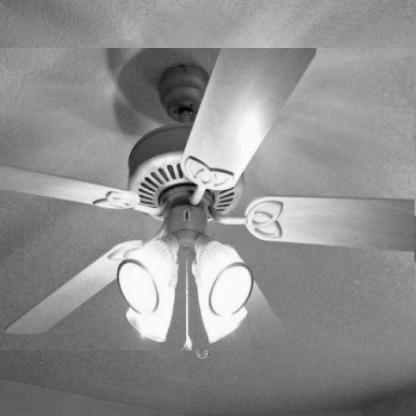ceiling-fan: (0, 48, 415, 351)
